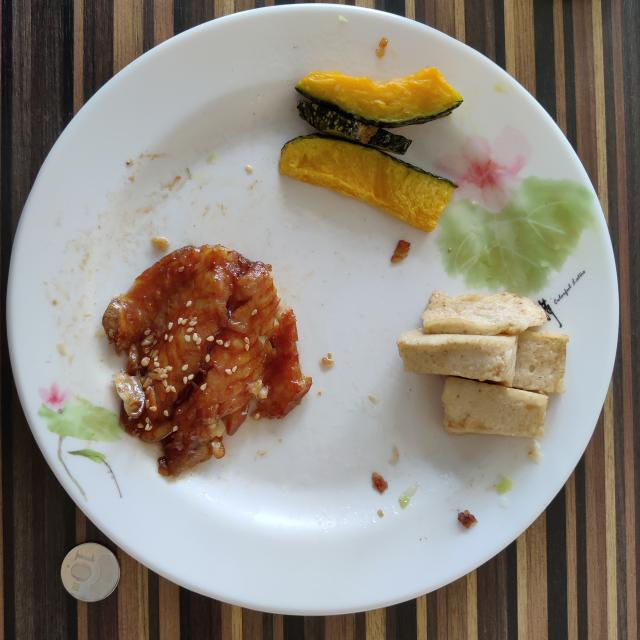Kabayaki sea bream fillet: (102, 245, 311, 476)
coin: (61, 542, 120, 602)
creamy tofu -without sauce-: (398, 290, 569, 438)
pumpkin: (279, 68, 462, 231)
